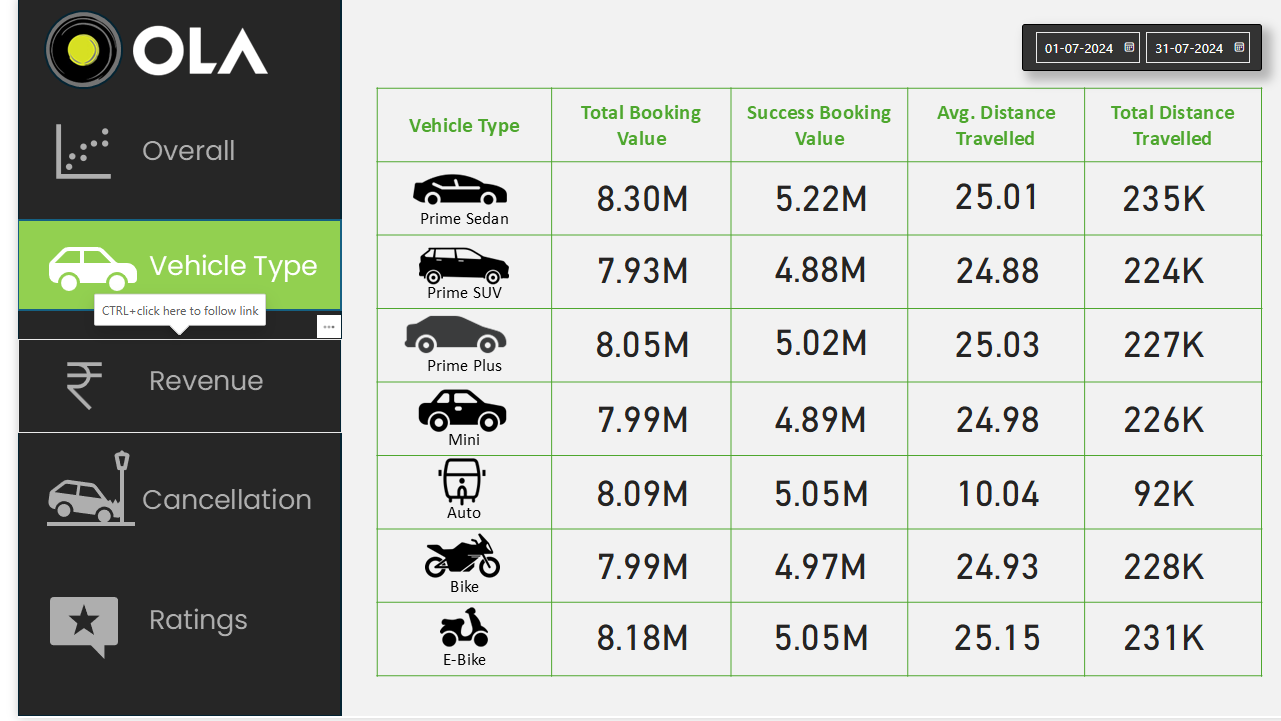

What the dashboard file says about the page in this screenshot:
{"tool":"powerbi","page":{"name":"Vehical Type","canvas":[1280,720],"ordinal":1},"visuals":[{"type":"actionButton","box":[0,224.4,324.1,87.1],"z":0},{"type":"actionButton","box":[0,341.1,324.1,93.4],"z":1000},{"type":"actionButton","box":[0,448.9,324.1,92.5],"z":2000},{"type":"actionButton","box":[0,580,324.1,92.5],"z":3000},{"type":"actionButton","box":[0,109.5,324.1,87.1],"z":4000},{"type":"card","fields":{"Values":["Sum(Bookiings.Booking_Value)"]},"box":[570,167,109,59],"z":5000},{"type":"card","fields":{"Values":["Sum(Bookiings.Booking_Value)"]},"box":[570,239,109,59],"z":6000},{"type":"card","fields":{"Values":["Sum(Bookiings.Booking_Value)"]},"box":[570,313,109,59],"z":7000},{"type":"card","fields":{"Values":["Sum(Bookiings.Booking_Value)"]},"box":[570,606,109,59],"z":8000},{"type":"card","fields":{"Values":["Sum(Bookiings.Booking_Value)"]},"box":[570,462,109,59],"z":9000},{"type":"card","fields":{"Values":["Sum(Bookiings.Booking_Value)"]},"box":[570,535,109,59],"z":10000},{"type":"card","fields":{"Values":["Sum(Bookiings.Booking_Value)"]},"box":[570,388,109,59],"z":11000},{"type":"card","fields":{"Values":["Sum(Bookiings.Booking_Value)"]},"box":[748,167,109,59],"z":12000},{"type":"card","fields":{"Values":["Sum(Bookiings.Booking_Value)"]},"box":[748,535,109,59],"z":13000},{"type":"card","fields":{"Values":["Sum(Bookiings.Booking_Value)"]},"box":[748,606,109,59],"z":14000},{"type":"card","fields":{"Values":["Sum(Bookiings.Booking_Value)"]},"box":[748,388,109,59],"z":15000},{"type":"card","fields":{"Values":["Sum(Bookiings.Booking_Value)"]},"box":[748,462,109,59],"z":16000},{"type":"card","fields":{"Values":["Sum(Bookiings.Booking_Value)"]},"box":[748,238,109,59],"z":17000},{"type":"card","fields":{"Values":["Sum(Bookiings.Booking_Value)"]},"box":[748,311,109,59],"z":18000},{"type":"card","fields":{"Values":["Avg(Bookiings.Ride_Distance)"]},"box":[925,165,109,59],"z":19000},{"type":"card","fields":{"Values":["Avg(Bookiings.Ride_Distance)"]},"box":[925,239,109,59],"z":20000},{"type":"card","fields":{"Values":["Avg(Bookiings.Ride_Distance)"]},"box":[925,313,109,59],"z":21000},{"type":"card","fields":{"Values":["Avg(Bookiings.Ride_Distance)"]},"box":[925,388,109,59],"z":22000},{"type":"card","fields":{"Values":["Avg(Bookiings.Ride_Distance)"]},"box":[925,535,109,59],"z":23000},{"type":"card","fields":{"Values":["Avg(Bookiings.Ride_Distance)"]},"box":[925,462,109,59],"z":24000},{"type":"card","fields":{"Values":["Sum(Bookiings.Ride_Distance)"]},"box":[1091,167,109,59],"z":25000},{"type":"card","fields":{"Values":["Avg(Bookiings.Ride_Distance)"]},"box":[925,606,109,59],"z":26000},{"type":"card","fields":{"Values":["Sum(Bookiings.Ride_Distance)"]},"box":[1091,239,109,59],"z":27000},{"type":"card","fields":{"Values":["Sum(Bookiings.Ride_Distance)"]},"box":[1091,313,109,59],"z":28000},{"type":"card","fields":{"Values":["Sum(Bookiings.Ride_Distance)"]},"box":[1091,388,109,59],"z":29000},{"type":"card","fields":{"Values":["Sum(Bookiings.Ride_Distance)"]},"box":[1091,462,109,59],"z":30000},{"type":"card","fields":{"Values":["Sum(Bookiings.Ride_Distance)"]},"box":[1091,535,109,59],"z":31000},{"type":"card","fields":{"Values":["Sum(Bookiings.Ride_Distance)"]},"box":[1091,606,109,59],"z":32000},{"type":"slicer","title":"Date","fields":{"Values":["Bookiings.Date"]},"box":[1004,26,240,47],"z":33000}]}

Visuals, with their boxes on the page's 1280x720 design canvas (x1, y1, x2, y2). These are canvas units, not pixel positions in the 1281x721 screenshot, which may show the page scaled, cropped or inside an application window:
actionButton: 0 224 324 312
actionButton: 0 341 324 434
actionButton: 0 449 324 541
actionButton: 0 580 324 672
actionButton: 0 110 324 197
card - Sum(Bookiings.Booking_Value): 570 167 679 226
card - Sum(Bookiings.Booking_Value): 570 239 679 298
card - Sum(Bookiings.Booking_Value): 570 313 679 372
card - Sum(Bookiings.Booking_Value): 570 606 679 665
card - Sum(Bookiings.Booking_Value): 570 462 679 521
card - Sum(Bookiings.Booking_Value): 570 535 679 594
card - Sum(Bookiings.Booking_Value): 570 388 679 447
card - Sum(Bookiings.Booking_Value): 748 167 857 226
card - Sum(Bookiings.Booking_Value): 748 535 857 594
card - Sum(Bookiings.Booking_Value): 748 606 857 665
card - Sum(Bookiings.Booking_Value): 748 388 857 447
card - Sum(Bookiings.Booking_Value): 748 462 857 521
card - Sum(Bookiings.Booking_Value): 748 238 857 297
card - Sum(Bookiings.Booking_Value): 748 311 857 370
card - Avg(Bookiings.Ride_Distance): 925 165 1034 224
card - Avg(Bookiings.Ride_Distance): 925 239 1034 298
card - Avg(Bookiings.Ride_Distance): 925 313 1034 372
card - Avg(Bookiings.Ride_Distance): 925 388 1034 447
card - Avg(Bookiings.Ride_Distance): 925 535 1034 594
card - Avg(Bookiings.Ride_Distance): 925 462 1034 521
card - Sum(Bookiings.Ride_Distance): 1091 167 1200 226
card - Avg(Bookiings.Ride_Distance): 925 606 1034 665
card - Sum(Bookiings.Ride_Distance): 1091 239 1200 298
card - Sum(Bookiings.Ride_Distance): 1091 313 1200 372
card - Sum(Bookiings.Ride_Distance): 1091 388 1200 447
card - Sum(Bookiings.Ride_Distance): 1091 462 1200 521
card - Sum(Bookiings.Ride_Distance): 1091 535 1200 594
card - Sum(Bookiings.Ride_Distance): 1091 606 1200 665
"Date" slicer: 1004 26 1244 73
